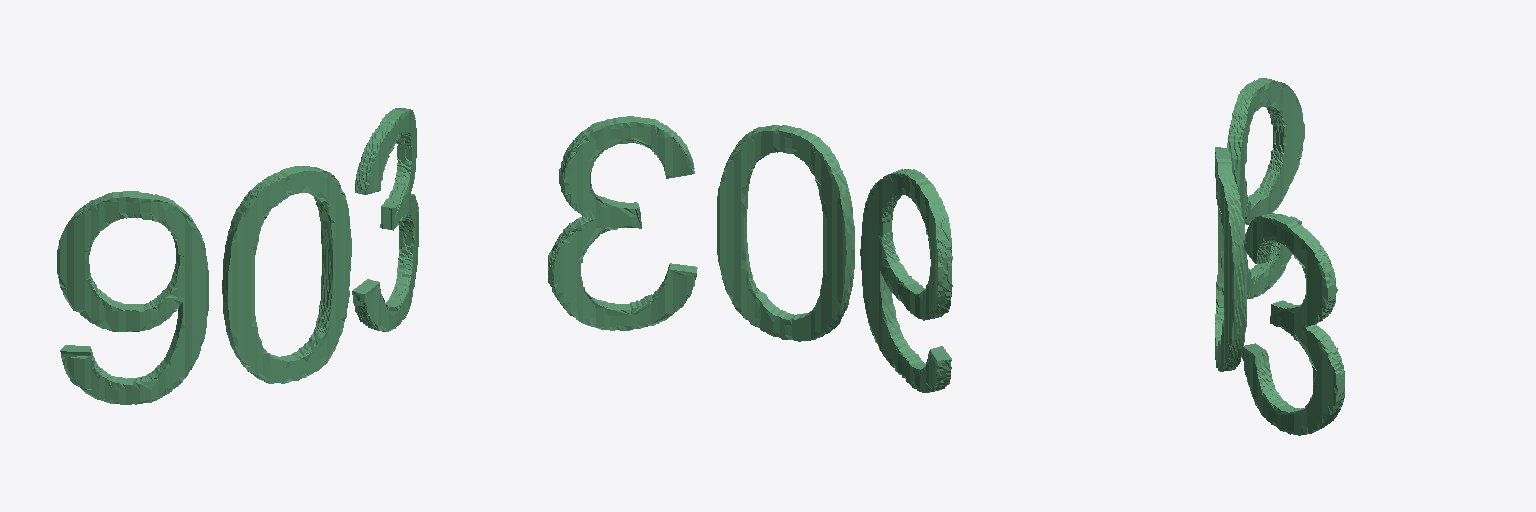
The model's file is port_3.obj.
3 renders of one model, left to right at view 1: azimuth 30°, elevation 25°; view 2: azimuth 150°, elevation 25°; view 3: azimuth 270°, elevation 25°, orthographic.
Visible parts, largest first — view 1: Text01; view 2: Text01; view 3: Text01.
Boxes of the visible parts, <box> form: Text01: <box>57,108,418,404</box>; Text01: <box>548,116,952,392</box>; Text01: <box>1215,78,1344,435</box>.
Bounding box in the file's own units: 3.06 × 1.59 × 0.9.